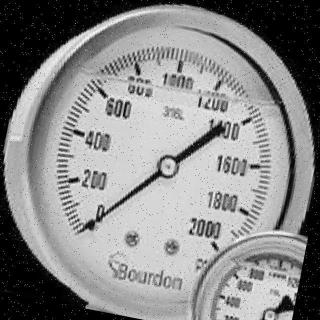gauge: (0, 0, 320, 320), (191, 231, 320, 320), (66, 196, 116, 253), (187, 224, 239, 272), (152, 154, 183, 183), (70, 224, 88, 242), (258, 306, 280, 320)
